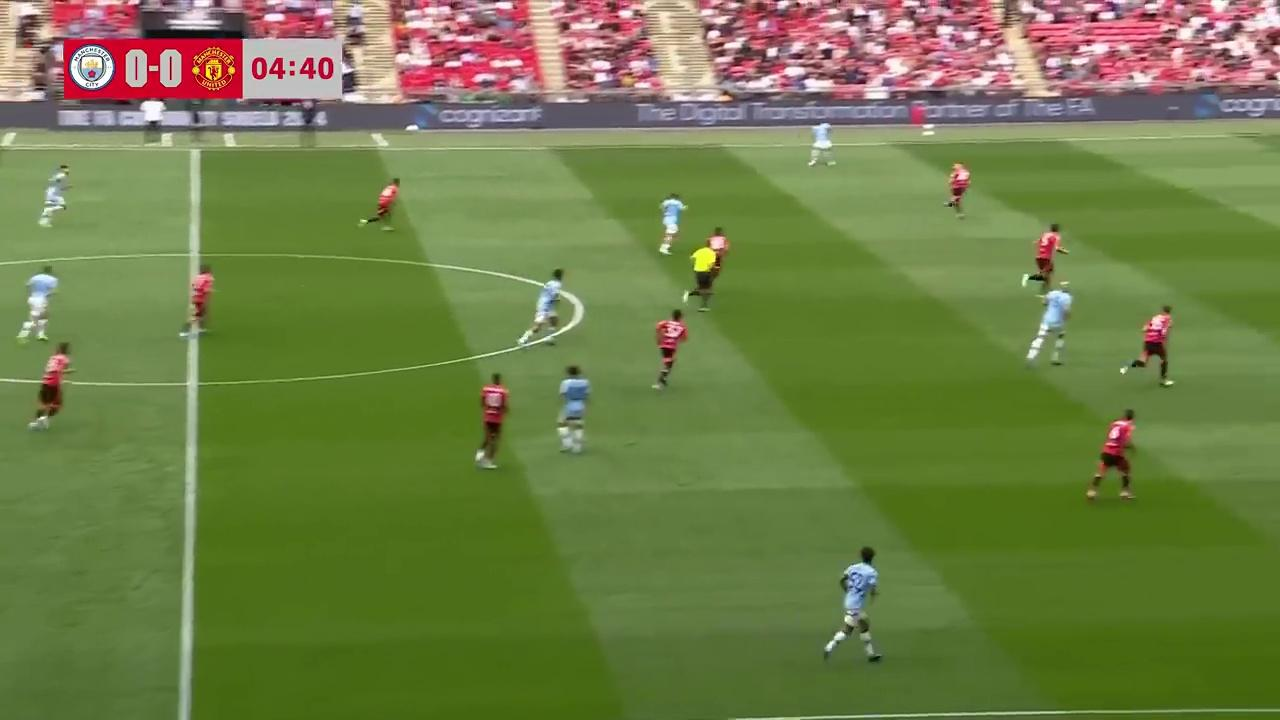player: (823, 545, 882, 666), (1085, 408, 1136, 501), (1024, 279, 1073, 367), (1122, 305, 1173, 385), (27, 344, 73, 430), (519, 269, 567, 348), (15, 265, 58, 342), (475, 372, 509, 469), (1021, 224, 1067, 293), (556, 364, 591, 454), (653, 309, 688, 389), (179, 262, 214, 339), (358, 178, 406, 231), (38, 162, 71, 226), (658, 192, 688, 255), (807, 117, 836, 167), (945, 160, 970, 218), (704, 226, 729, 283)
referee: (683, 239, 718, 311)
